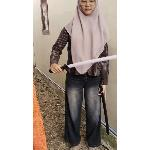Pedang: (46, 49, 118, 76)
